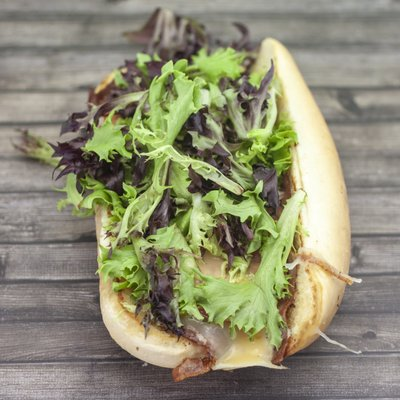sandwich: (47, 29, 352, 379)
